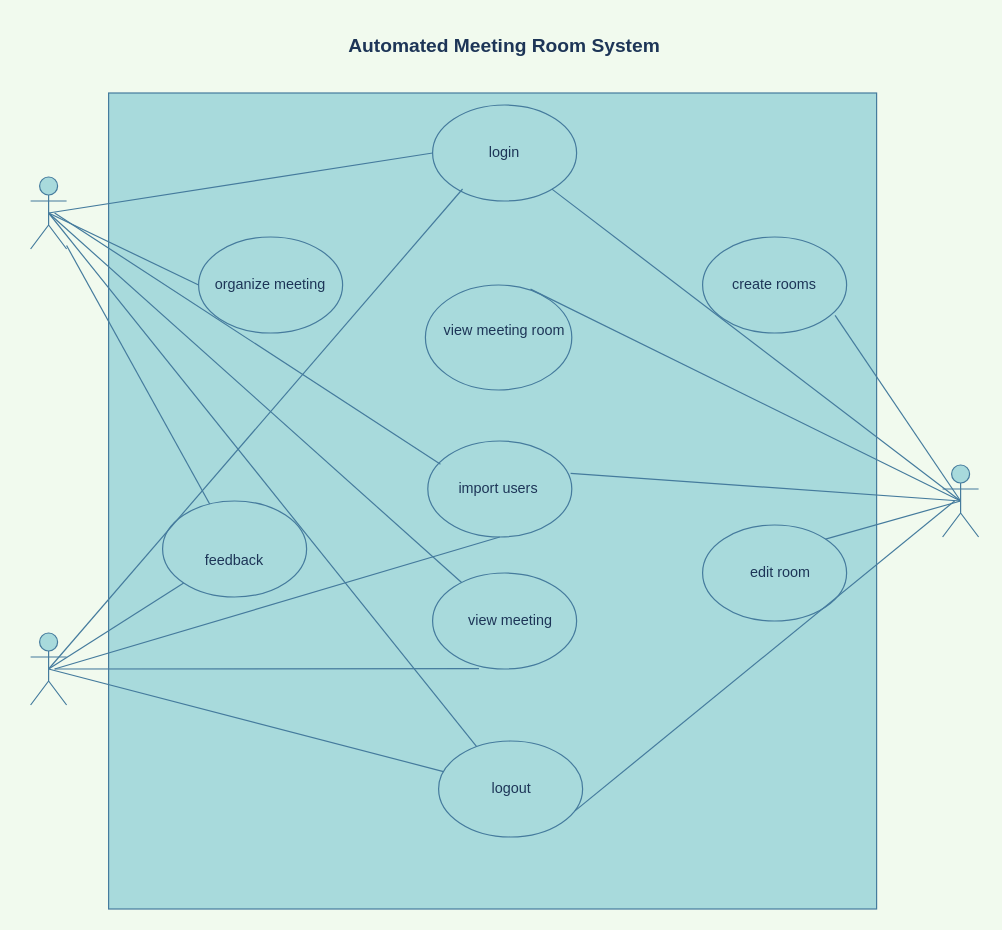
This 1002x930 diagram has some shape labels left out. Each missing label, with the centre of its shape:
"Admin" belongs at [960,500].
"Manager" belongs at [48,212].
"Member" belongs at [48,668].
